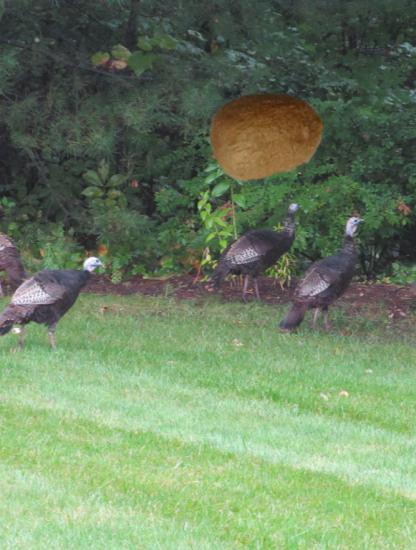Kiwi: (206, 75, 324, 193)
